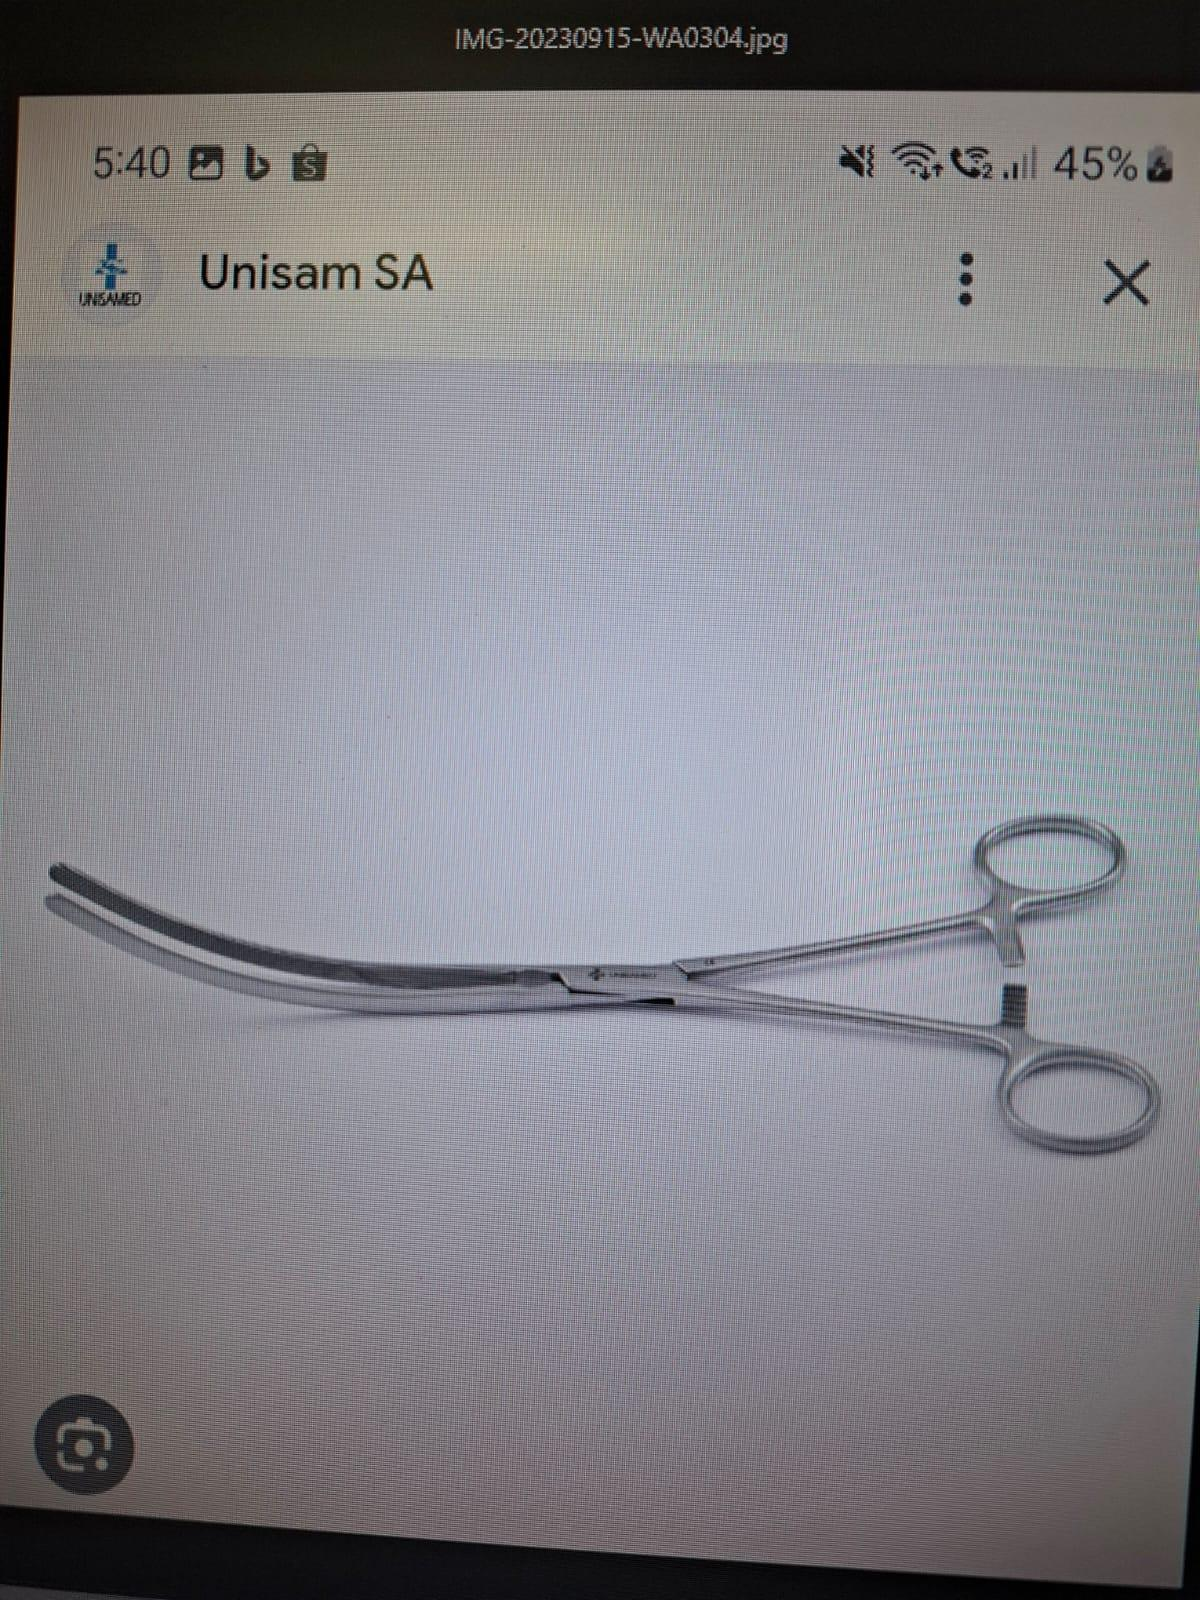Doyel Instestinal Forceps: (38, 800, 1172, 1173)
